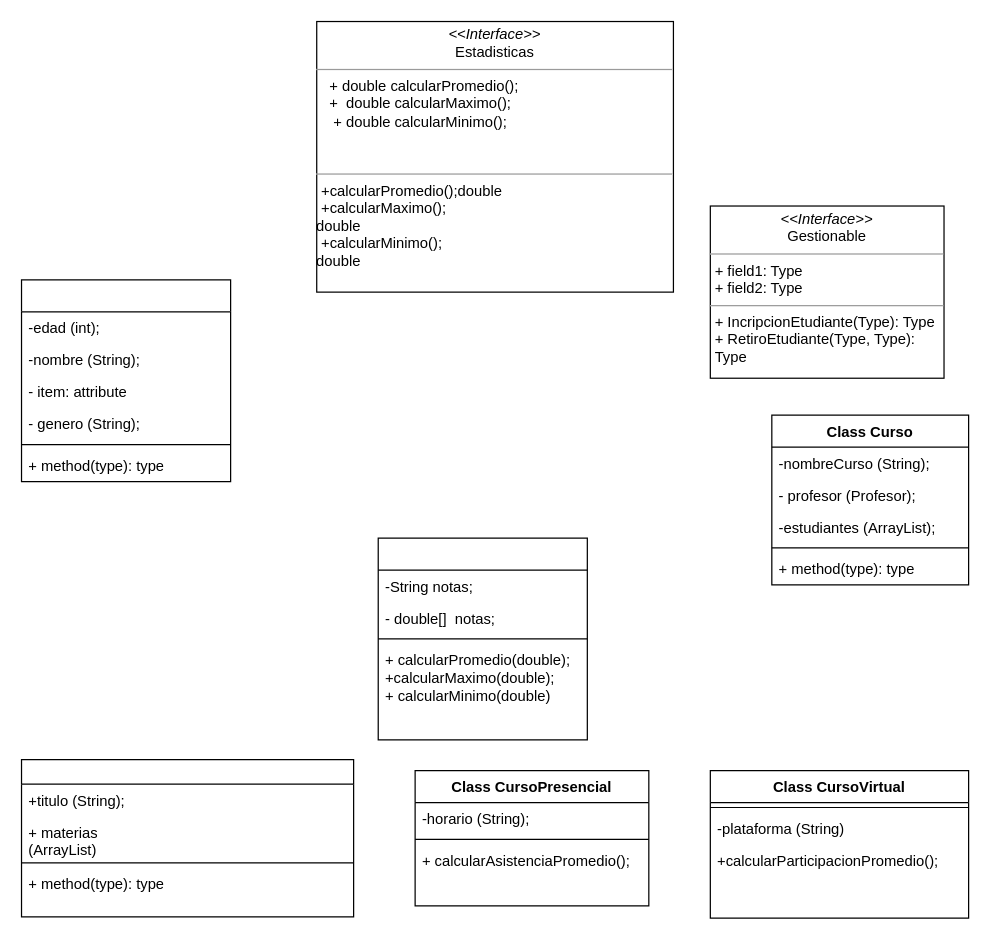
Some shapes in this 990 by 943 pixel diagram are drawn without their labels. The box of each missing label's shape, as (x1, y1, x2, y2) in pixels:
Class Estudiante: (377, 537, 587, 740)
Class Persona: (20, 279, 231, 482)
Class Profesor: (20, 758, 354, 917)
